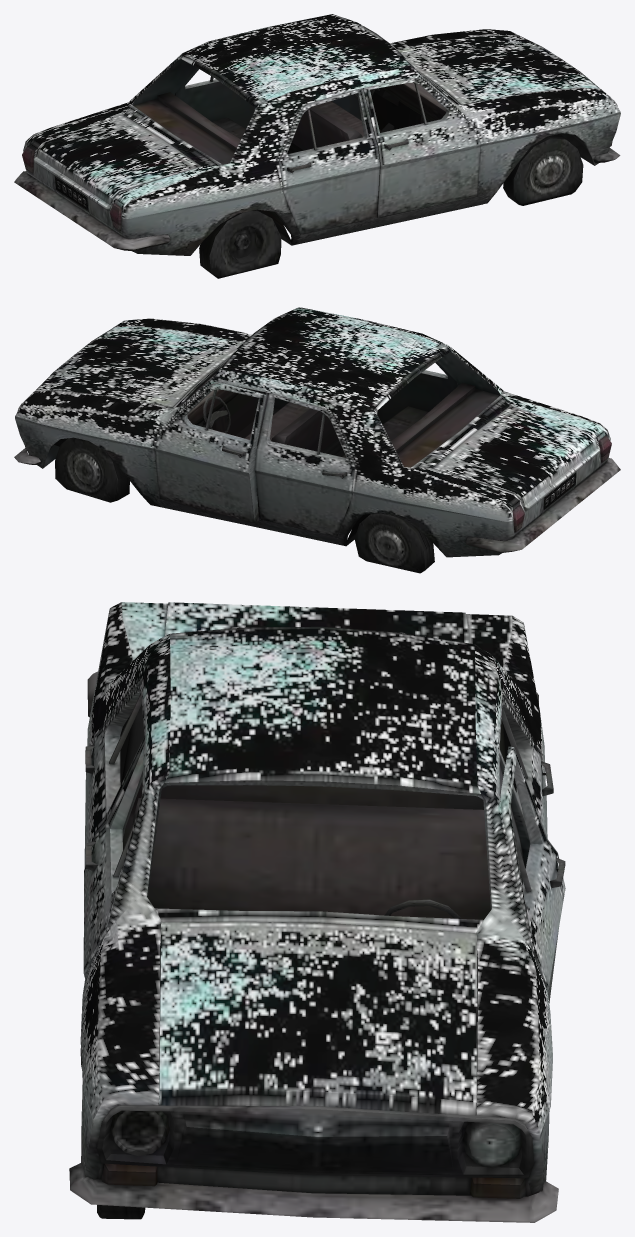
Rendered from car004a.glb.
3 renders of one model, top to bottom at view 1: azimuth 30°, elevation 25°; view 2: azimuth 150°, elevation 25°; view 3: azimuth 270°, elevation 25°, orthographic. The views are drawn at different scales.
Parts seen in each view (by area): view 1: 0_car004a_01; view 2: 0_car004a_01; view 3: 0_car004a_01.
Part boxes in pixels (x1,y1,x2,y2): 0_car004a_01: [14, 14, 620, 278]; 0_car004a_01: [14, 307, 620, 573]; 0_car004a_01: [69, 602, 565, 1222].
Size of the model in its own units: 5.12 by 1.51 by 2.17.
Materials: 1 (1 with a texture image).
